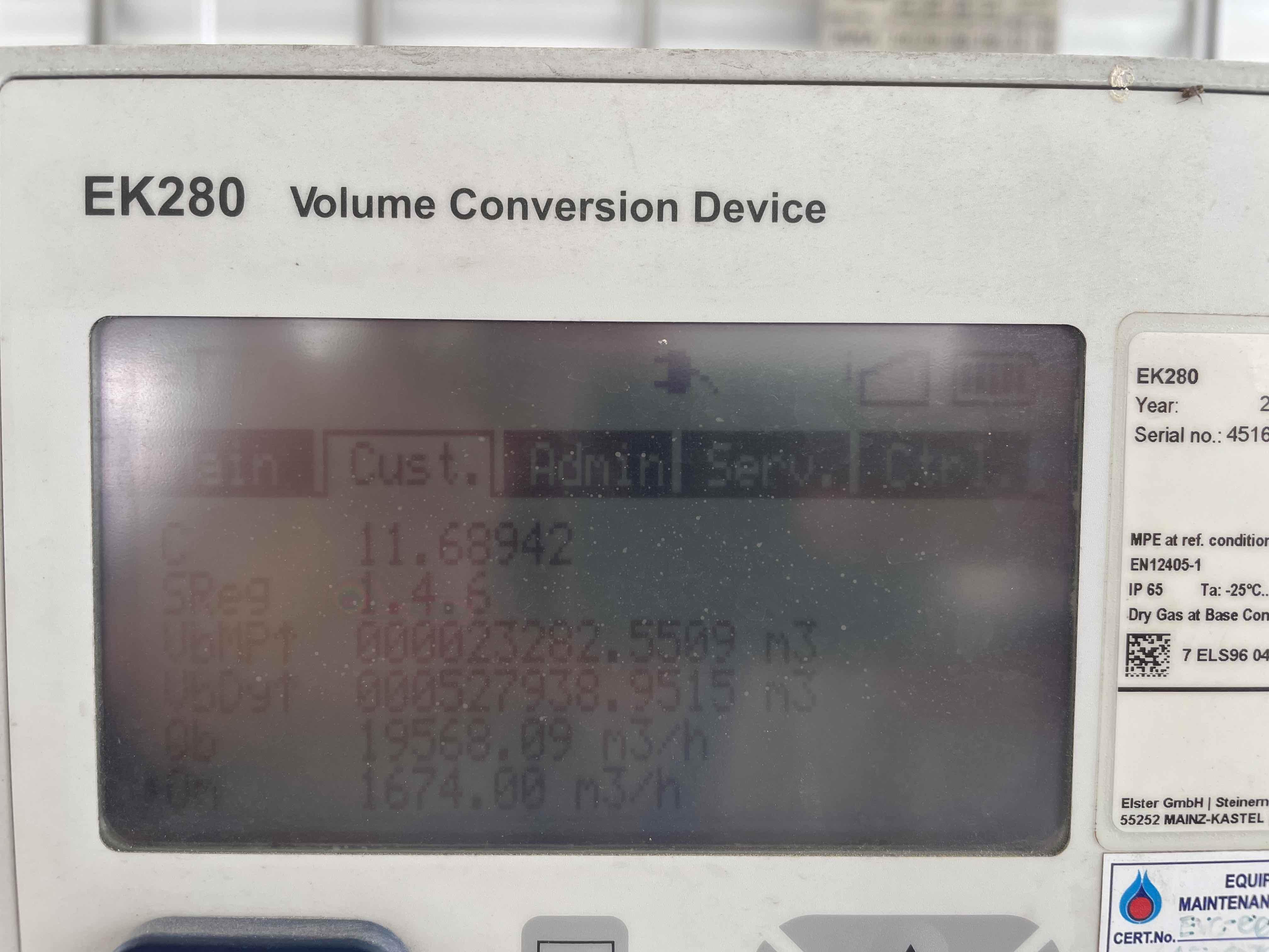digital_screen: (95, 320, 1080, 849)
